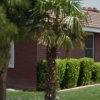Tree: (31, 0, 93, 59)
